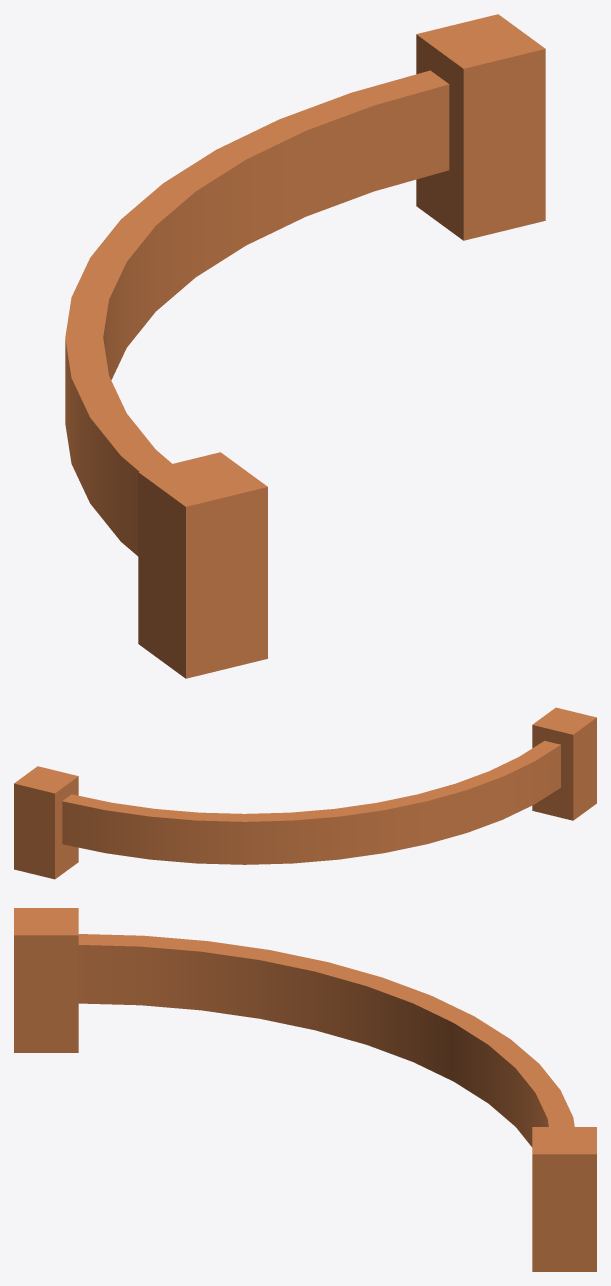
The model's file is fenceLowCornerCurved.dae.
The picture shows the model from 3 angles, top to bottom: view 1: azimuth 30°, elevation 25°; view 2: azimuth 150°, elevation 25°; view 3: azimuth 270°, elevation 25°; orthographic projection. The views are drawn at different scales.
Visible parts, largest first — view 1: fenceLowCornerCurved; view 2: fenceLowCornerCurved; view 3: fenceLowCornerCurved.
Part boxes in pixels (box(x1,y1,x2,y2)): fenceLowCornerCurved: box(65, 14, 545, 678); fenceLowCornerCurved: box(14, 707, 596, 879); fenceLowCornerCurved: box(14, 908, 596, 1271).
Bounding box in the file's own units: 0.9 × 0.2 × 0.9.
